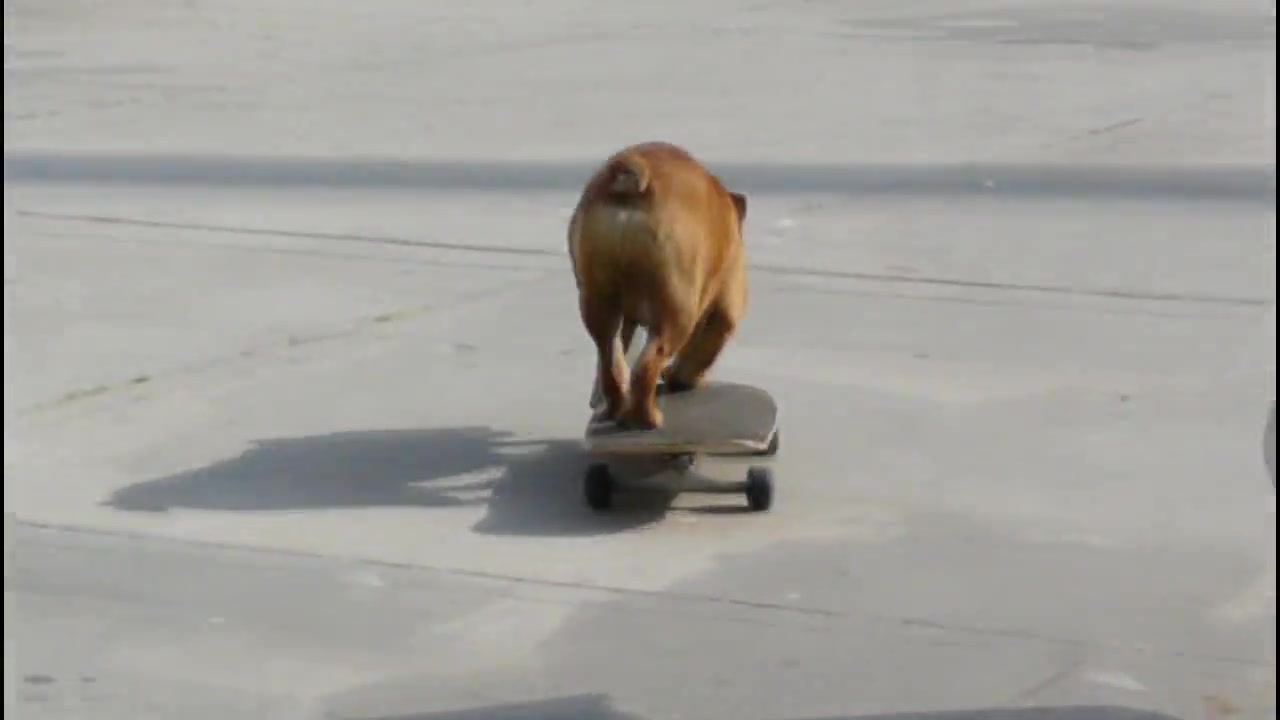dog: (568, 136, 753, 434)
